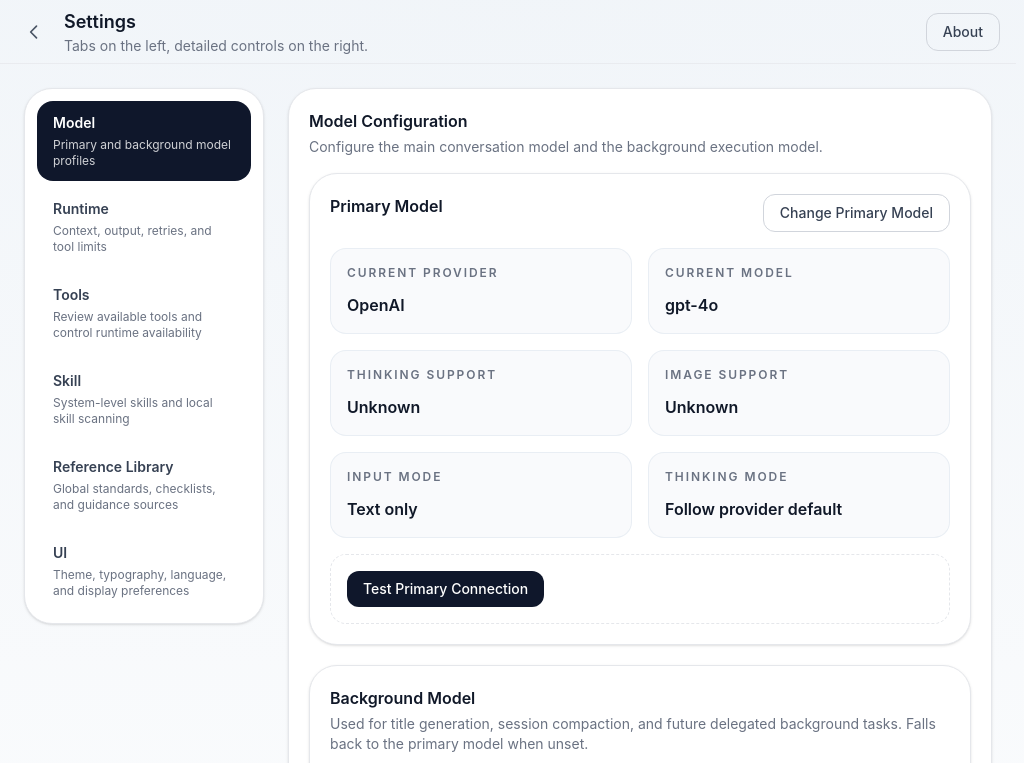
SettingsPage › retries loading tools when returning to the tools tab after a failure
Click the button that starts with "Tools" at (144, 313), box [37, 273, 251, 353]
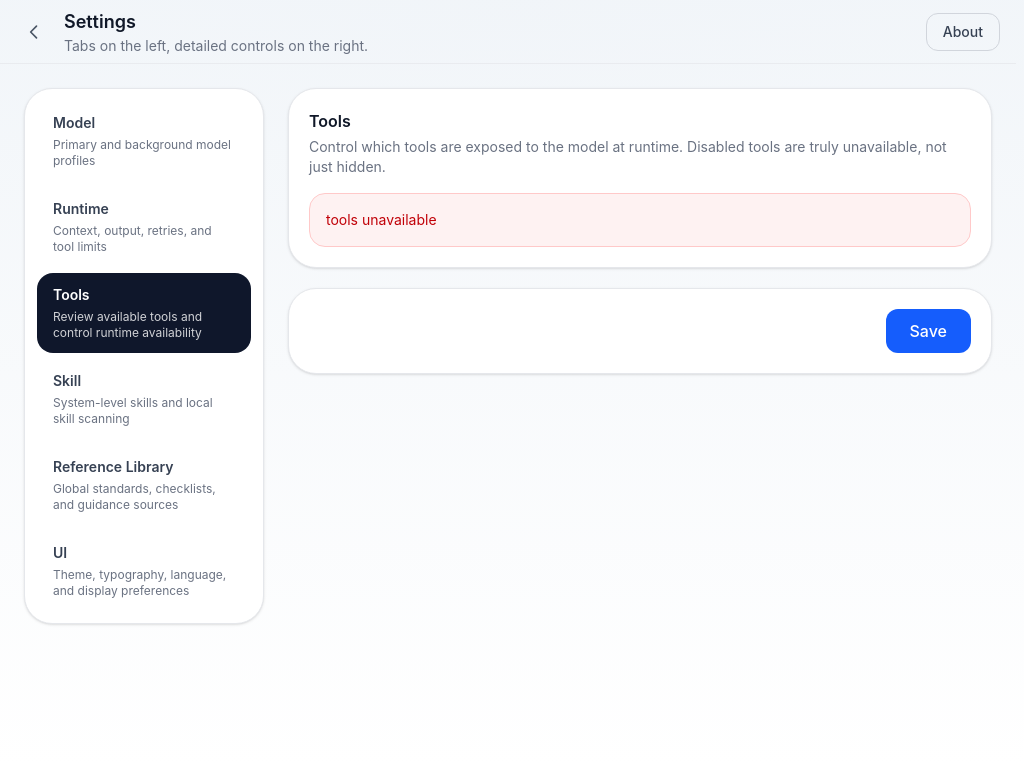
Check: the text "tools unavailable" is shown, box [309, 193, 971, 247]
Click the button "Runtime Context, output, retries, and tool limits" at (144, 227), box [37, 187, 251, 267]
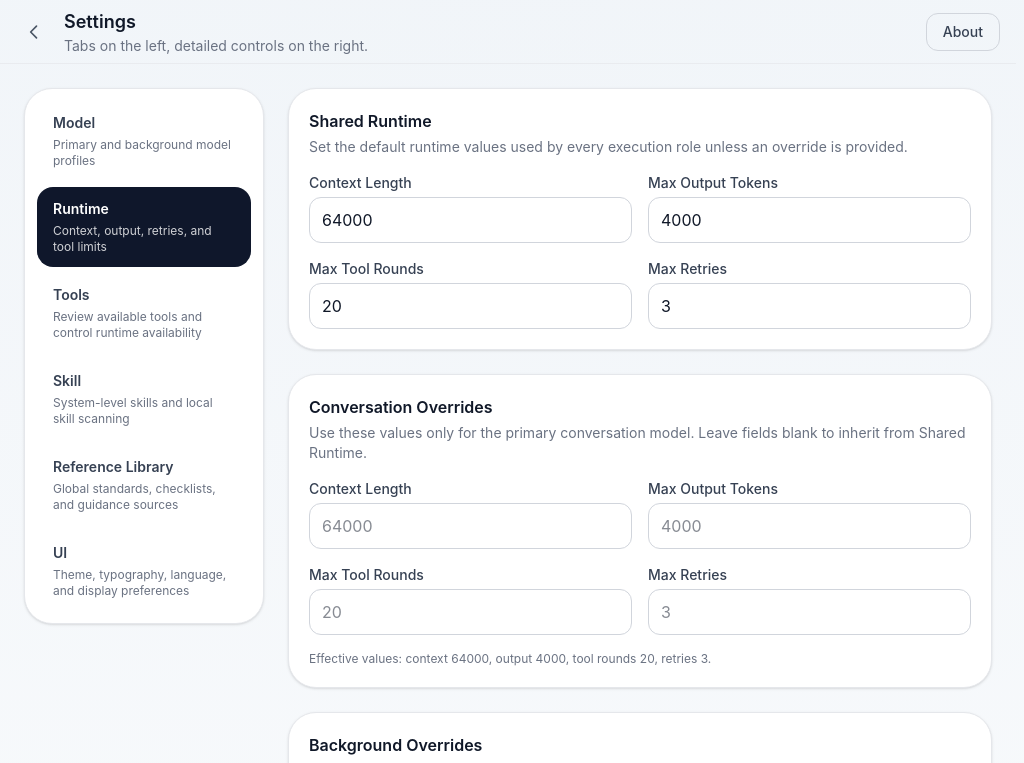
Click the button that starts with "Tools" at (144, 313), box [37, 273, 251, 353]
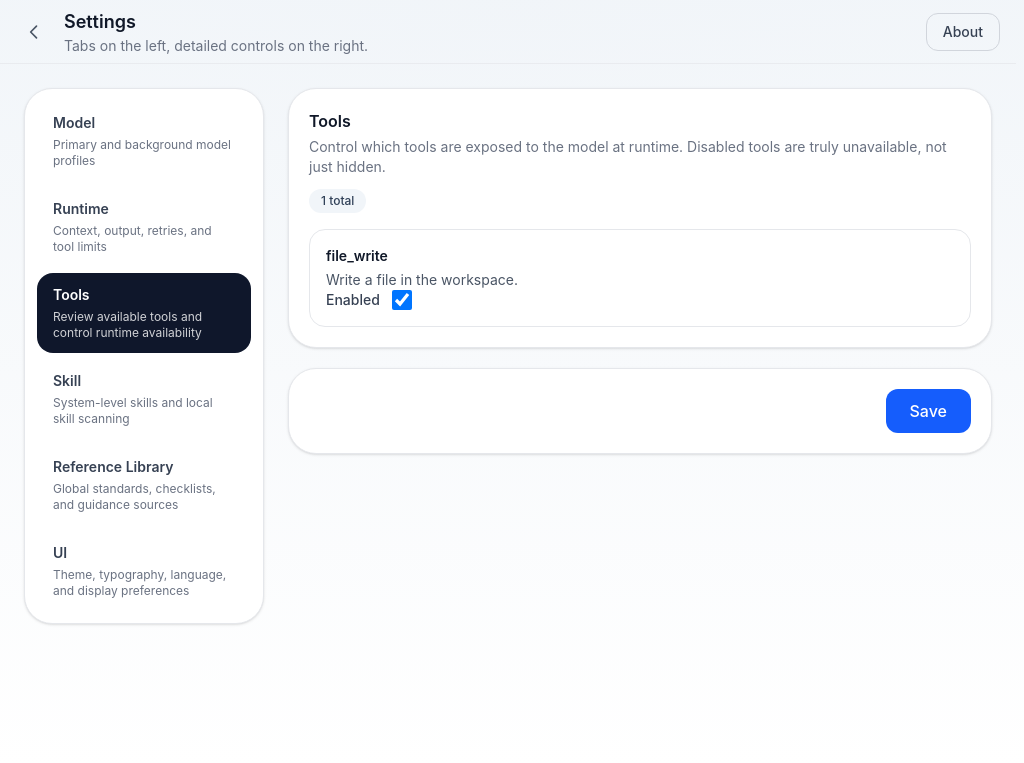
Check: the text "file_write" is shown, box [326, 247, 388, 264]
